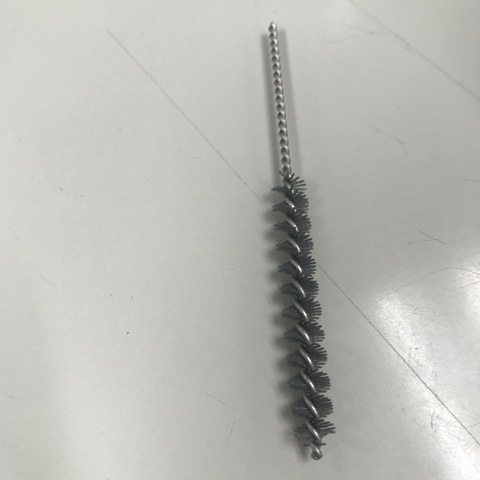Twist Brush-A: (255, 21, 346, 461)
